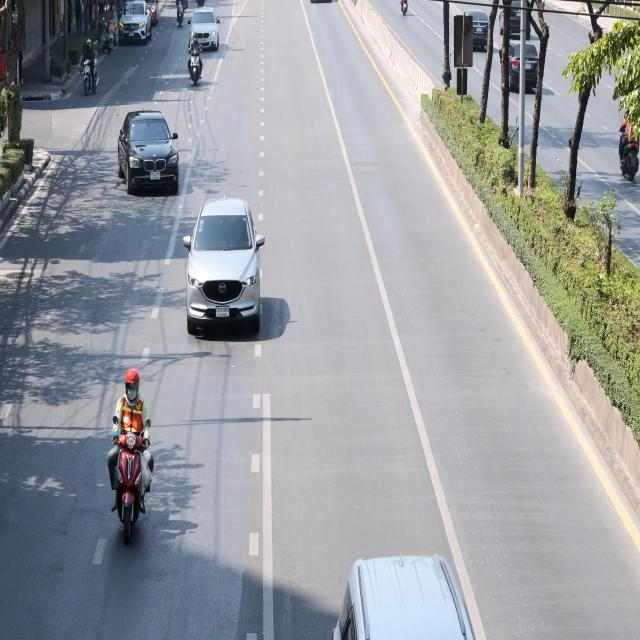cars: (325, 531, 489, 640), (178, 185, 273, 352), (108, 108, 186, 204), (498, 36, 542, 100), (448, 11, 493, 66), (122, 7, 154, 62), (189, 2, 219, 60), (496, 0, 536, 40), (140, 0, 159, 28)
motorcycle: (93, 350, 167, 545), (603, 90, 640, 205), (72, 27, 102, 98), (184, 31, 206, 94), (99, 12, 119, 57), (171, 0, 185, 34), (394, 0, 413, 23)
